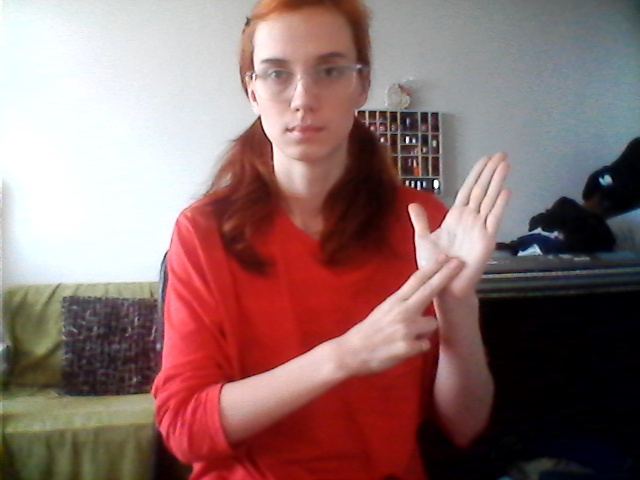n: (390, 144, 519, 377)
